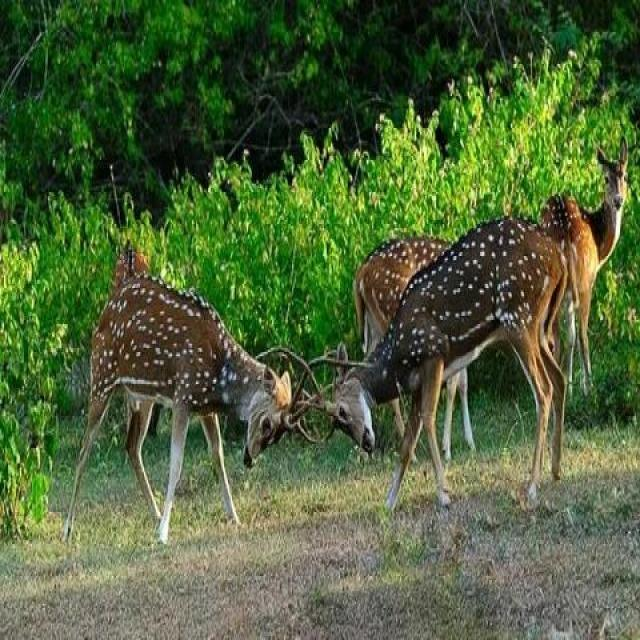deer: (290, 189, 611, 518), (52, 195, 304, 578), (511, 106, 640, 297)
